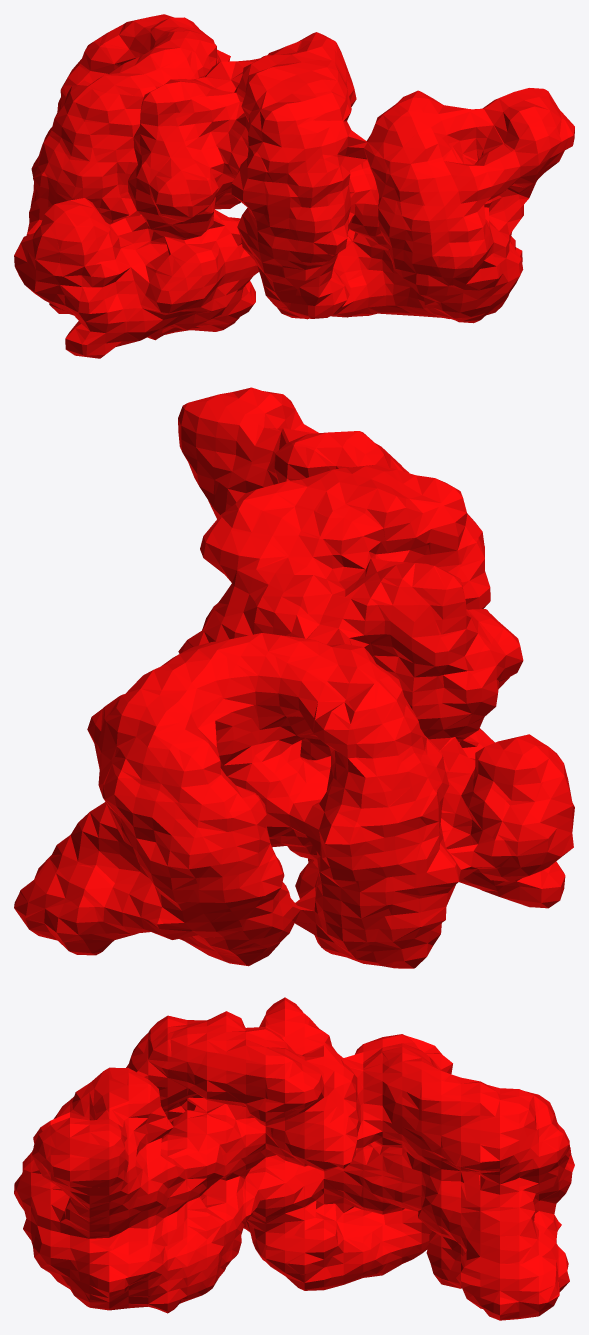
The model's file is Cullin_associated_NEDD8_dissoc_coarse.dae.
The picture shows the model from 3 angles, top to bottom: view 1: azimuth 30°, elevation 25°; view 2: azimuth 150°, elevation 25°; view 3: azimuth 270°, elevation 25°; orthographic projection. The views are drawn at different scales.
Parts seen in each view (by area): view 1: Cullin_associated_NEDD8_dissoc; view 2: Cullin_associated_NEDD8_dissoc; view 3: Cullin_associated_NEDD8_dissoc.
Part boxes in pixels (x1,y1,x2,y2): Cullin_associated_NEDD8_dissoc: [14, 14, 574, 358]; Cullin_associated_NEDD8_dissoc: [14, 387, 574, 968]; Cullin_associated_NEDD8_dissoc: [14, 997, 574, 1320].
Bounding box in the file's own units: 172 × 116 × 208.
